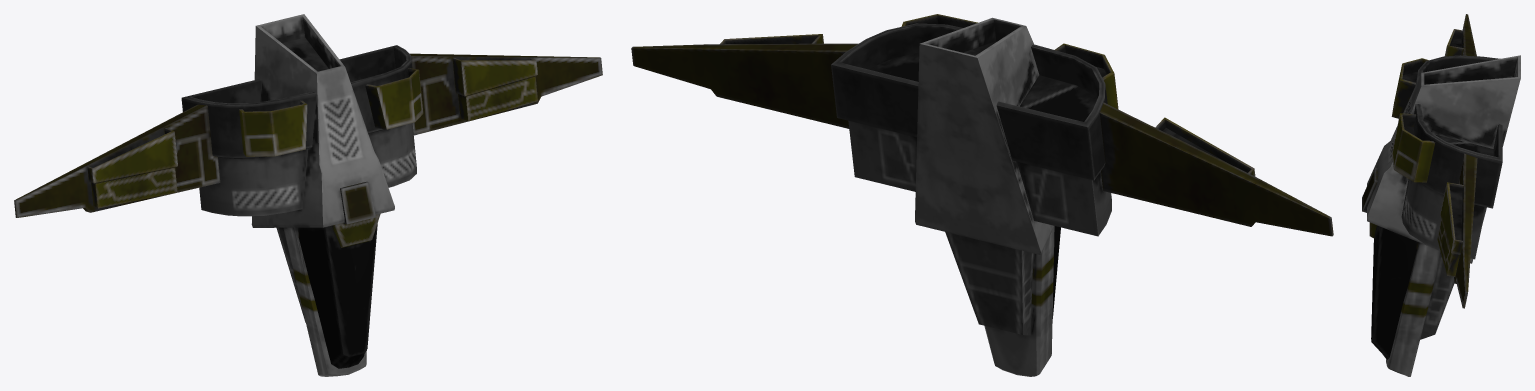
File: Bob.fbx
3 renders of one model, left to right at view 1: azimuth 30°, elevation 25°; view 2: azimuth 150°, elevation 25°; view 3: azimuth 270°, elevation 25°, orthographic. The views are drawn at different scales.
Visible parts, largest first — view 1: Bob; view 2: Bob; view 3: Bob.
Boxes of the visible parts, left/top/right/bottom form: Bob: left=14, top=14, right=602, bottom=376; Bob: left=631, top=14, right=1333, bottom=376; Bob: left=1362, top=14, right=1520, bottom=376.
Bounding box in the file's own units: 3620 × 872 × 1853.
